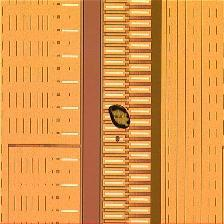BLOCK ETCH: (97, 103, 141, 147)
